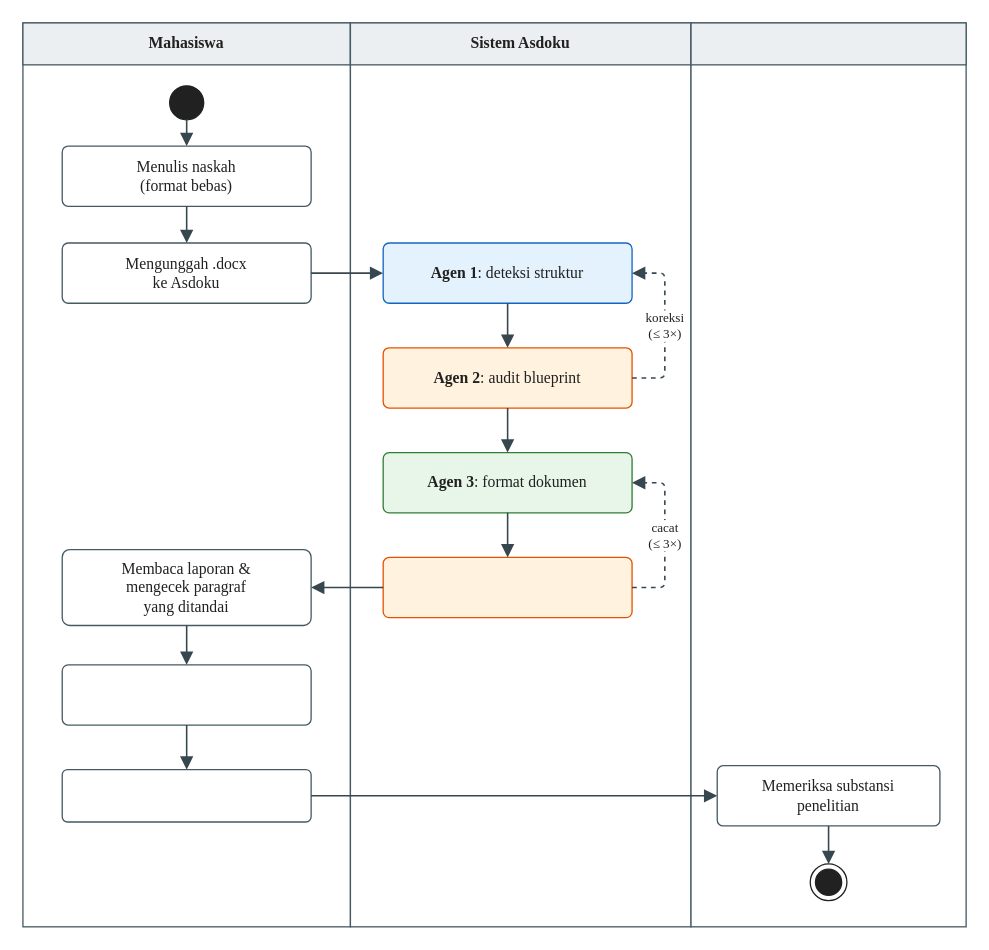
The diagram is 989 pixels wide and 950 high, and some of its shapes have lost their labels. The centre of each missing label's shape, as x and y in pixels:
"Agen 2 : uji 8 kriteria" goes at pixel 507 587.
"Dosen Pembimbing" goes at pixel 828 43.
"Mengunduh & membuka di Word (perbarui field)" goes at pixel 186 694.
"Menyerahkan draf" goes at pixel 186 795.
